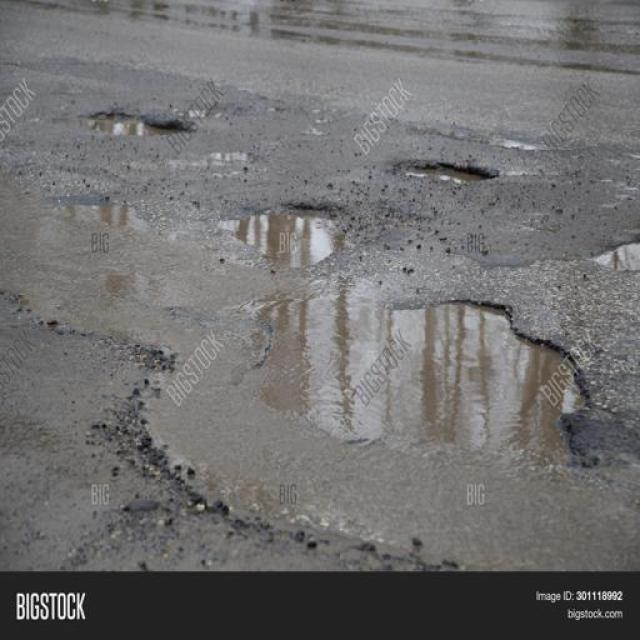puddle: (268, 276, 596, 459), (237, 199, 333, 277)
